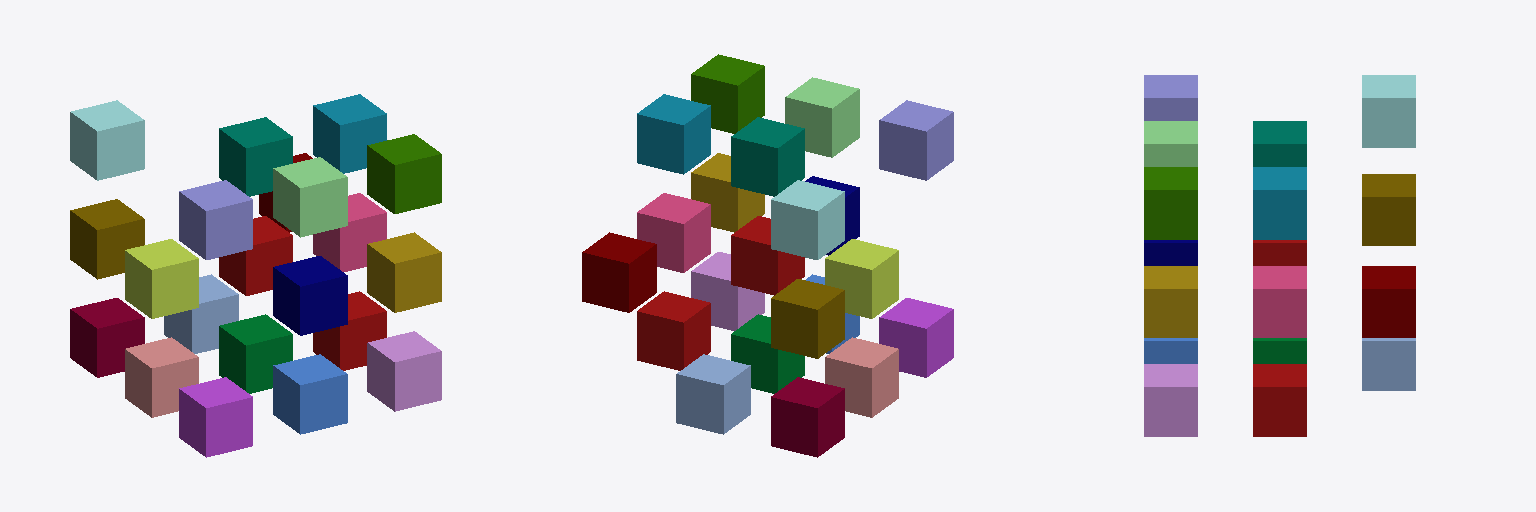
Rendered from corner.obj.
3 views of the same model, side by side, from view 1: azimuth 30°, elevation 25°; view 2: azimuth 150°, elevation 25°; view 3: azimuth 270°, elevation 25° (orthographic).
Visible parts, largest first — view 1: Box004, Box016, Box021, Box006, Box020, Box003, Box008, Box017, Box009, Box018, Box012, Box011 (+8 smaller); view 2: Box018, Box019, Box013, Box005, Box011, Box012, Box021, Box002, Box015, Box006, Box017, Box010 (+9 smaller); view 3: Box005, Box008, Box015, Box016, Box021, Box001, Box004, Box012, Box019, Box013, Box002, Box006 (+5 smaller).
Part boxes in pixels (x1,y1,x2,y2): Box004: (367,232,441,312); Box016: (367,331,441,411); Box021: (70,100,144,180); Box006: (273,157,347,237); Box020: (273,354,347,434); Box003: (273,256,347,335); Box008: (367,134,441,213); Box017: (179,377,252,457); Box009: (125,239,198,318); Box018: (179,180,252,259); Box012: (70,199,144,279); Box011: (70,298,144,377); Box018: (879,100,953,180); Box019: (582,232,656,312); Box013: (676,354,750,434); Box005: (637,94,710,174); Box011: (771,377,844,457); Box012: (771,279,844,358); Box021: (771,180,844,259); Box002: (731,117,804,196); Box015: (637,291,710,370); Box006: (785,77,859,157); Box017: (879,298,953,377); Box010: (825,337,898,417); Box005: (1253,167,1306,239); Box008: (1144,167,1197,239); Box015: (1253,364,1306,436); Box016: (1144,364,1197,436); Box021: (1362,75,1415,147); Box001: (1253,266,1306,337); Box004: (1144,266,1197,337); Box012: (1362,174,1415,245); Box019: (1362,266,1415,337); Box013: (1362,338,1415,390); Box002: (1253,121,1306,166); Box006: (1144,121,1197,166).
Size of the model in its own units: 2.5 by 2.5 by 2.5.